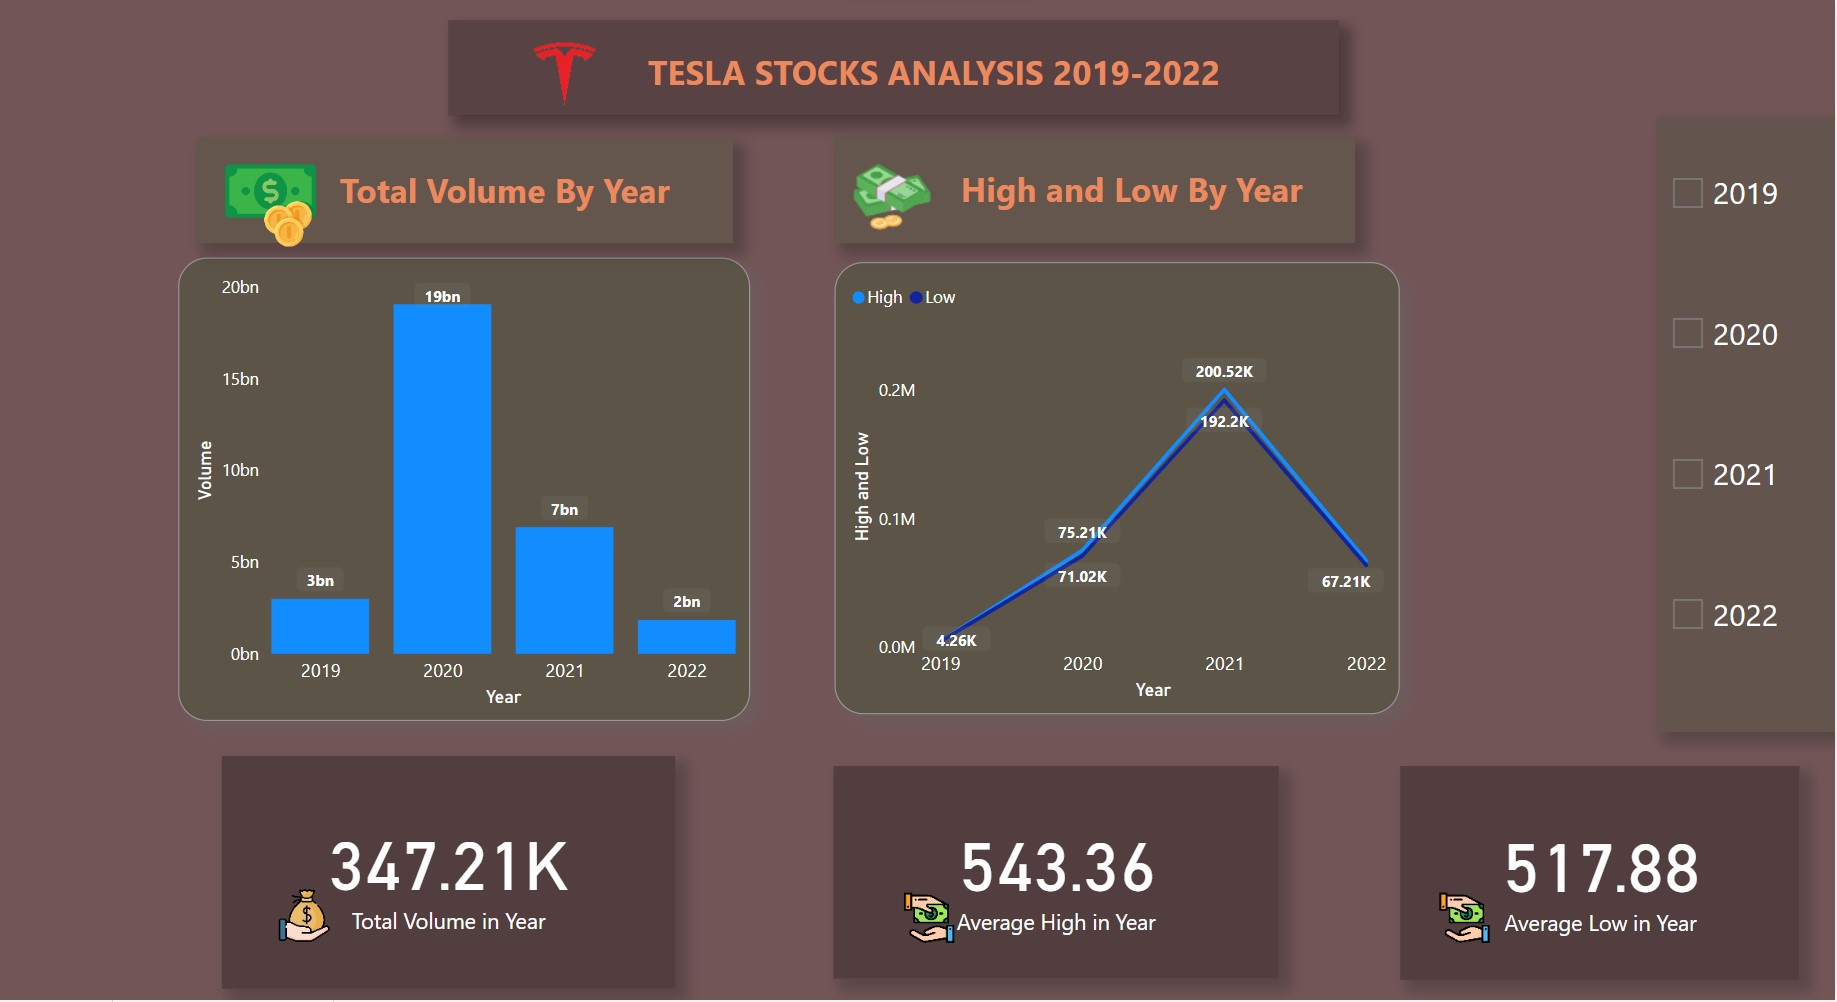

Layout of this report page (visuals, bound fields, positions):
{"tool":"powerbi","page":{"name":"Page 1","canvas":[1465,798],"ordinal":0},"visuals":[{"type":"columnChart","fields":{"Category":["TSLA.Year"],"Y":["Sum(TSLA.Volume)"]},"box":[143.1,205.3,456.1,369.2],"z":0},{"type":"textbox","box":[157,109.6,428.4,83.9],"z":1},{"type":"image","box":[134.3,122.4,164.9,82.9],"z":2},{"type":"lineChart","fields":{"Category":["TSLA.Year"],"Y":["Sum(TSLA.High)","Sum(TSLA.Low)"]},"box":[666.4,209.3,451.1,360.3],"z":3},{"type":"textbox","box":[666.4,108.6,415.6,84.9],"z":4},{"type":"image","box":[666.4,119.5,91.8,74],"z":5},{"type":"slicer","fields":{"Values":["TSLA.Year"]},"box":[1321.9,92.8,143.1,490.6],"z":6},{"type":"card","fields":{"Values":["TSLA.Total Volume in Year"]},"box":[177.7,603.2,361.3,185.6],"z":7},{"type":"card","fields":{"Values":["TSLA.Average High in Year"]},"box":[665.4,611.1,355.4,169.8],"z":8},{"type":"image","box":[217.2,703.9,52.3,53.3],"z":9},{"type":"image","box":[704.9,706.8,74,50.3],"z":10},{"type":"card","fields":{"Values":["TSLA.Average Low in Year"]},"box":[1117.5,611.1,318.9,170.8],"z":11},{"type":"image","box":[1132.3,706.8,74,50.3],"z":12},{"type":"textbox","box":[358.4,15.8,710.8,76],"z":13},{"type":"image","box":[420.5,23.7,60.2,69.1],"z":14}]}

Visuals, with their boxes in screenshot pixels (x1, y1, x2, y2), scaled from the page's 1465x798 canvas onto the 1837x1002 screenshot:
columnChart - TSLA.Year x Sum(TSLA.Volume): select_region(179, 258, 751, 721)
textbox: select_region(197, 138, 734, 243)
image: select_region(168, 154, 375, 258)
lineChart - TSLA.Year x Sum(TSLA.High): select_region(836, 263, 1401, 715)
textbox: select_region(836, 136, 1357, 243)
image: select_region(836, 150, 951, 243)
slicer - TSLA.Year: select_region(1658, 117, 1836, 733)
card - TSLA.Total Volume in Year: select_region(223, 757, 676, 990)
card - TSLA.Average High in Year: select_region(834, 767, 1280, 981)
image: select_region(272, 884, 338, 951)
image: select_region(884, 887, 977, 951)
card - TSLA.Average Low in Year: select_region(1401, 767, 1801, 982)
image: select_region(1420, 887, 1513, 951)
textbox: select_region(449, 20, 1341, 115)
image: select_region(527, 30, 603, 117)
